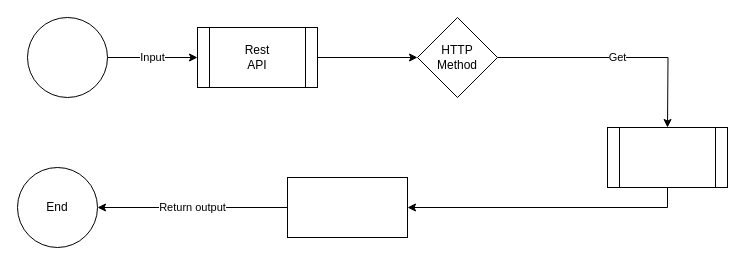
Image size: 745x265. Some labels were removed from this diagram. Each missing label, with the centre of its shape:
"Read" goes at pixel 667 157.
"Start" goes at pixel 67 57.
